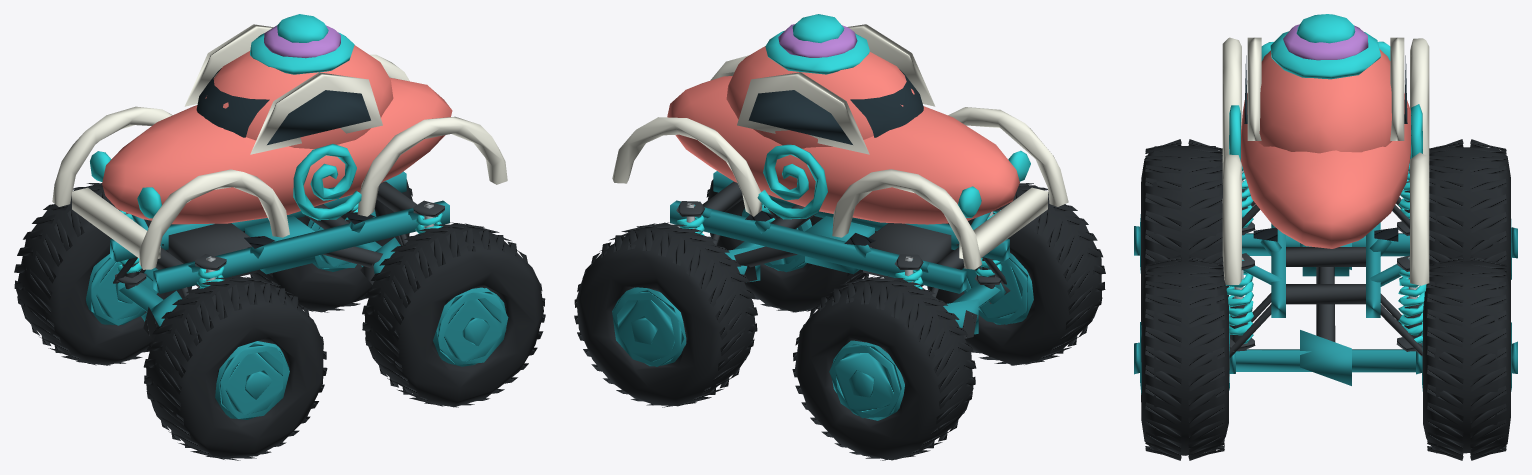
File: CandyCrush_LOD2.fbx
3 views of the same model, side by side, from view 1: azimuth 30°, elevation 25°; view 2: azimuth 150°, elevation 25°; view 3: azimuth 270°, elevation 25° (orthographic). The views are drawn at different scales.
Parts seen in each view (by area): view 1: CandyCrush_LOD2_sprung_body_Geometry, CandyCrush_LOD2_FL_Spin_Geometry, CandyCrush_LOD2_RL_Spin_Geometry, CandyCrush_LOD2_FR_Spin_Geometry, CandyCrush_LOD2_RR_Spin_Geometry, CandyCrush_LOD2_FRONT_axle_Geometry, CandyCrush_LOD2_Root_Geometry, CandyCrush_LOD2_FRONT_shock_-1_Geometry, CandyCrush_LOD2_REAR_shock_-1_Geometry, CandyCrush_LOD2_REAR_axle_Geometry; view 2: CandyCrush_LOD2_sprung_body_Geometry, CandyCrush_LOD2_RR_Spin_Geometry, CandyCrush_LOD2_FR_Spin_Geometry, CandyCrush_LOD2_FL_Spin_Geometry, CandyCrush_LOD2_RL_Spin_Geometry, CandyCrush_LOD2_FRONT_axle_Geometry, CandyCrush_LOD2_Root_Geometry, CandyCrush_LOD2_REAR_shock_1_Geometry, CandyCrush_LOD2_FRONT_shock_1_Geometry, CandyCrush_LOD2_REAR_axle_Geometry; view 3: CandyCrush_LOD2_sprung_body_Geometry, CandyCrush_LOD2_RL_Spin_Geometry, CandyCrush_LOD2_RR_Spin_Geometry, CandyCrush_LOD2_FL_Spin_Geometry, CandyCrush_LOD2_FR_Spin_Geometry, CandyCrush_LOD2_REAR_axle_Geometry, CandyCrush_LOD2_Root_Geometry, CandyCrush_LOD2_REAR_shock_-1_Geometry, CandyCrush_LOD2_REAR_shock_1_Geometry, CandyCrush_LOD2_FRONT_axle_Geometry, CandyCrush_LOD2_FRONT_shock_-1_Geometry, CandyCrush_LOD2_FRONT_shock_1_Geometry.
Part boxes in pixels (<box>): CandyCrush_LOD2_sprung_body_Geometry: <box>52,14,507,293</box>; CandyCrush_LOD2_FL_Spin_Geometry: <box>143,275,327,460</box>; CandyCrush_LOD2_RL_Spin_Geometry: <box>362,222,545,407</box>; CandyCrush_LOD2_FR_Spin_Geometry: <box>14,183,191,365</box>; CandyCrush_LOD2_RR_Spin_Geometry: <box>243,179,412,312</box>; CandyCrush_LOD2_FRONT_axle_Geometry: <box>119,283,181,340</box>; CandyCrush_LOD2_Root_Geometry: <box>113,199,408,305</box>; CandyCrush_LOD2_FRONT_shock_-1_Geometry: <box>195,254,226,288</box>; CandyCrush_LOD2_REAR_shock_-1_Geometry: <box>413,200,444,233</box>; CandyCrush_LOD2_REAR_axle_Geometry: <box>355,237,400,284</box>; CandyCrush_LOD2_sprung_body_Geometry: <box>612,14,1068,293</box>; CandyCrush_LOD2_RR_Spin_Geometry: <box>574,222,757,407</box>; CandyCrush_LOD2_FR_Spin_Geometry: <box>792,275,976,460</box>; CandyCrush_LOD2_FL_Spin_Geometry: <box>927,183,1105,365</box>; CandyCrush_LOD2_RL_Spin_Geometry: <box>706,179,876,312</box>; CandyCrush_LOD2_FRONT_axle_Geometry: <box>943,283,1010,338</box>; CandyCrush_LOD2_Root_Geometry: <box>712,199,1006,299</box>; CandyCrush_LOD2_REAR_shock_1_Geometry: <box>676,201,704,235</box>; CandyCrush_LOD2_FRONT_shock_1_Geometry: <box>895,254,923,289</box>; CandyCrush_LOD2_REAR_axle_Geometry: <box>725,241,764,282</box>; CandyCrush_LOD2_sprung_body_Geometry: <box>1222,14,1429,317</box>; CandyCrush_LOD2_RL_Spin_Geometry: <box>1134,255,1235,460</box>; CandyCrush_LOD2_RR_Spin_Geometry: <box>1416,255,1517,460</box>; CandyCrush_LOD2_FL_Spin_Geometry: <box>1134,139,1228,294</box>; CandyCrush_LOD2_FR_Spin_Geometry: <box>1429,139,1517,294</box>; CandyCrush_LOD2_REAR_axle_Geometry: <box>1229,330,1422,385</box>; CandyCrush_LOD2_Root_Geometry: <box>1229,197,1422,358</box>; CandyCrush_LOD2_REAR_shock_-1_Geometry: <box>1222,253,1255,351</box>; CandyCrush_LOD2_REAR_shock_1_Geometry: <box>1396,255,1426,351</box>; CandyCrush_LOD2_FRONT_axle_Geometry: <box>1242,233,1409,269</box>; CandyCrush_LOD2_FRONT_shock_-1_Geometry: <box>1241,162,1255,233</box>; CandyCrush_LOD2_FRONT_shock_1_Geometry: <box>1397,162,1409,235</box>.
Bounding box in the file's own units: 517 × 460 × 414.
